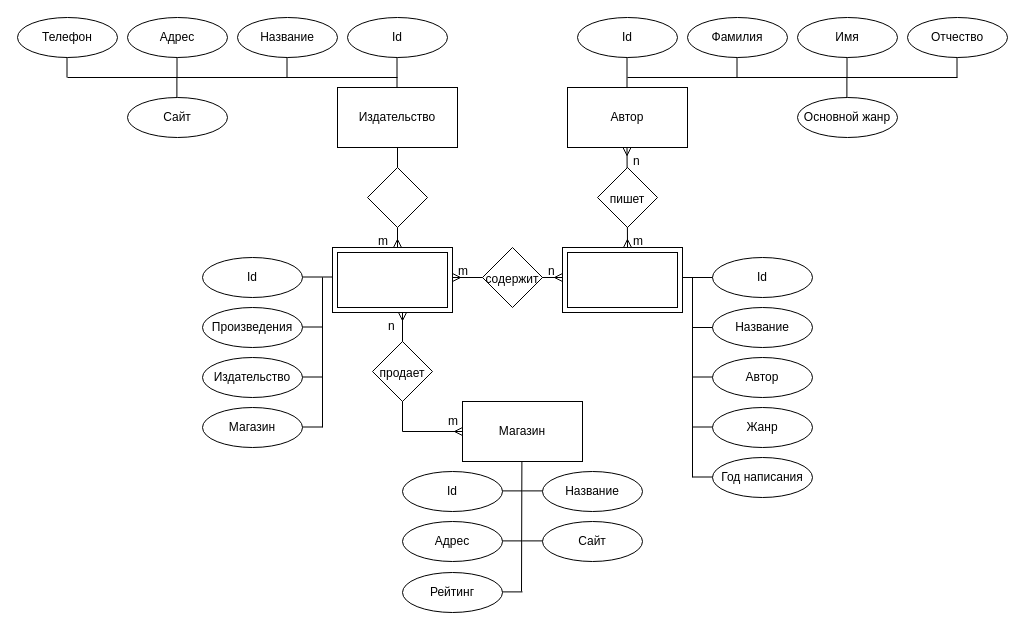
Image size: 1025x630. Some labels were removed from this diagram. Here are the shapes that lost their labels. From the top down, the box of each, then its label:
(366, 166, 428, 228): издает
(332, 246, 452, 312): Книга
(562, 246, 682, 312): Произведение
